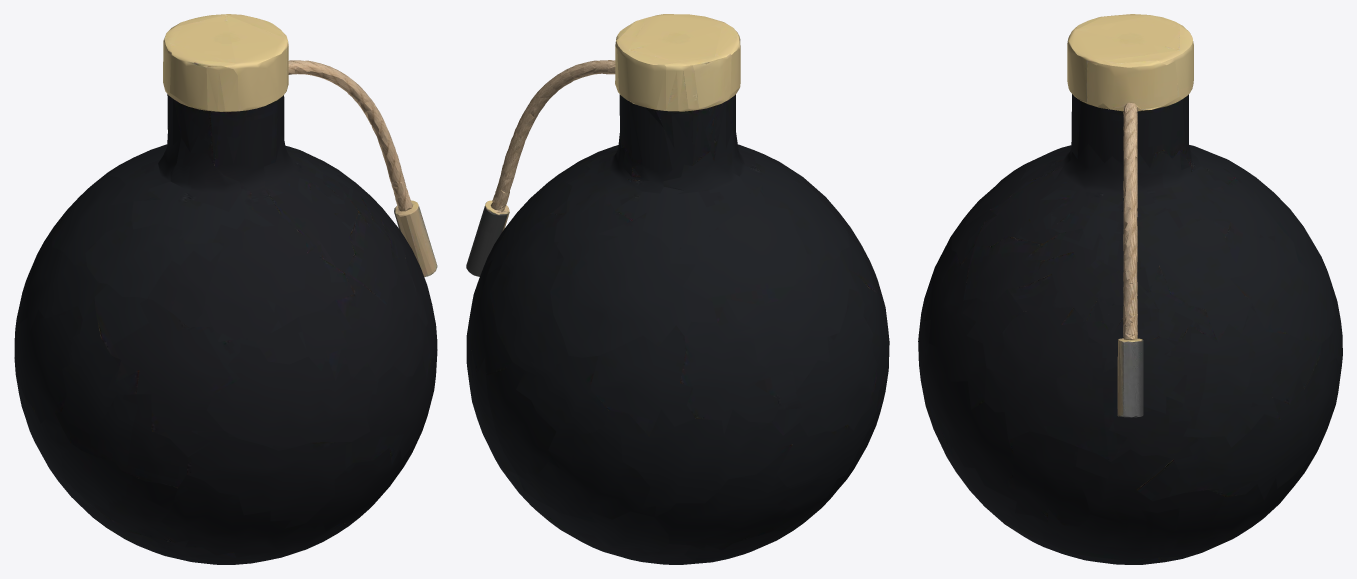
The model's file is ticking_bomb.glb.
The picture shows the model from 3 angles, left to right: view 1: azimuth 30°, elevation 25°; view 2: azimuth 150°, elevation 25°; view 3: azimuth 270°, elevation 25°; orthographic projection.
Bounding box in the file's own units: 1.54 × 1.9 × 1.44.
1 material, 1 textured.
